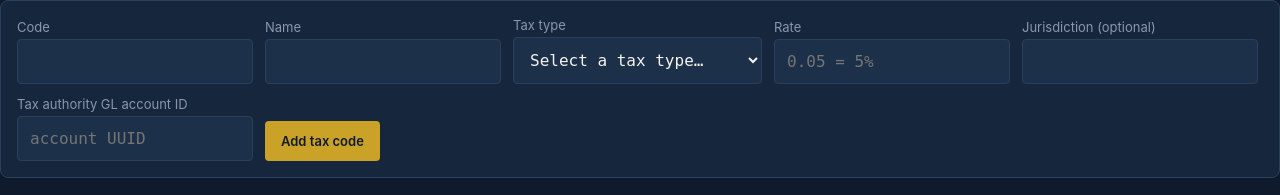
Test: CreateTaxCodeForm › resets every field after a successful submit
This screenshot has width=1280, height=195.
Type "WHT-10" into the field labelled "Code" at coordinates (135, 62), box x1=17 y1=39 x2=253 y2=84
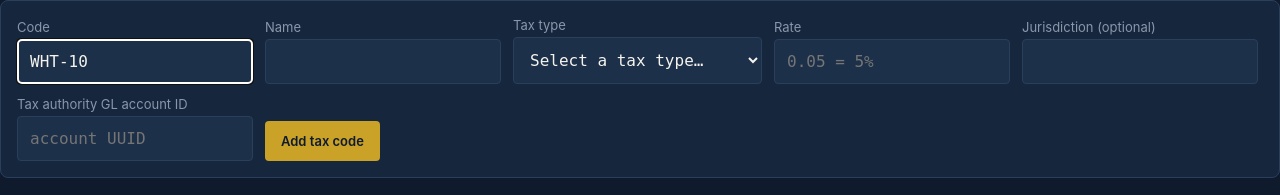
Type "Withholding Tax 10%" into the field labelled "Name" at coordinates (383, 62), box x1=265 y1=39 x2=501 y2=84
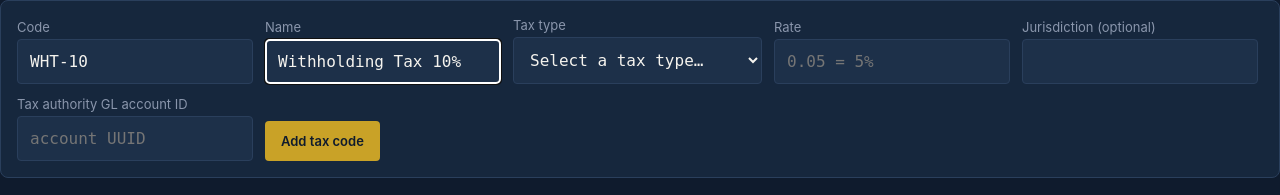
Select "WHT — Withholding Tax" in the dropdown labelled "Tax type" at coordinates (638, 60), box x1=513 y1=37 x2=762 y2=84
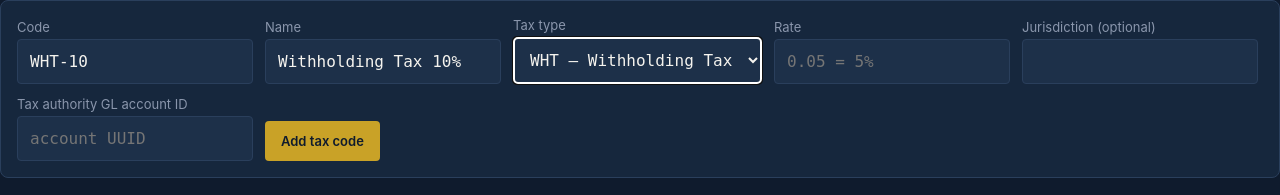
Type "0.1" into the number field labelled "Rate" at coordinates (892, 62), box x1=774 y1=39 x2=1010 y2=84
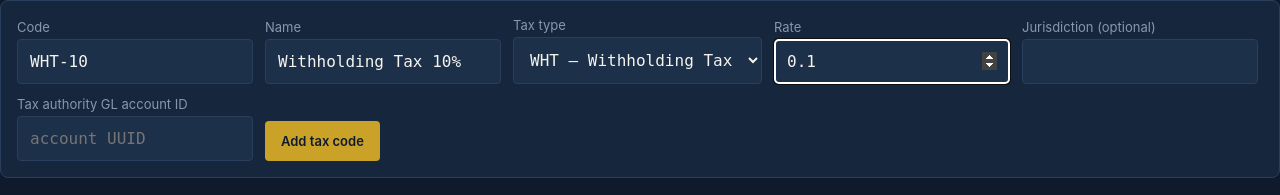
Type "account-uuid-1" into the field labelled "Tax authority GL account ID" at coordinates (135, 138), box x1=17 y1=116 x2=253 y2=161
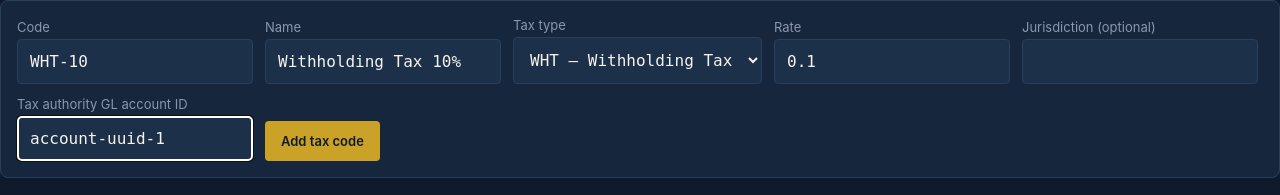
Click the button "Add tax code" at coordinates (322, 141), box x1=265 y1=121 x2=380 y2=161
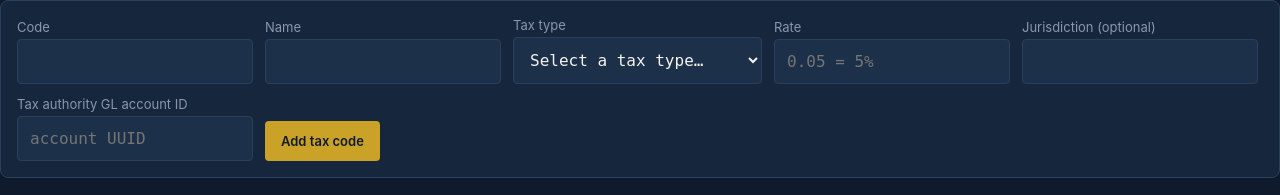
Expected: the field labelled "Code" is empty, x1=17 y1=39 x2=253 y2=84
Expected: the field labelled "Name" is empty, x1=265 y1=39 x2=501 y2=84
Expected: the number field labelled "Rate" is not empty, x1=774 y1=39 x2=1010 y2=84
